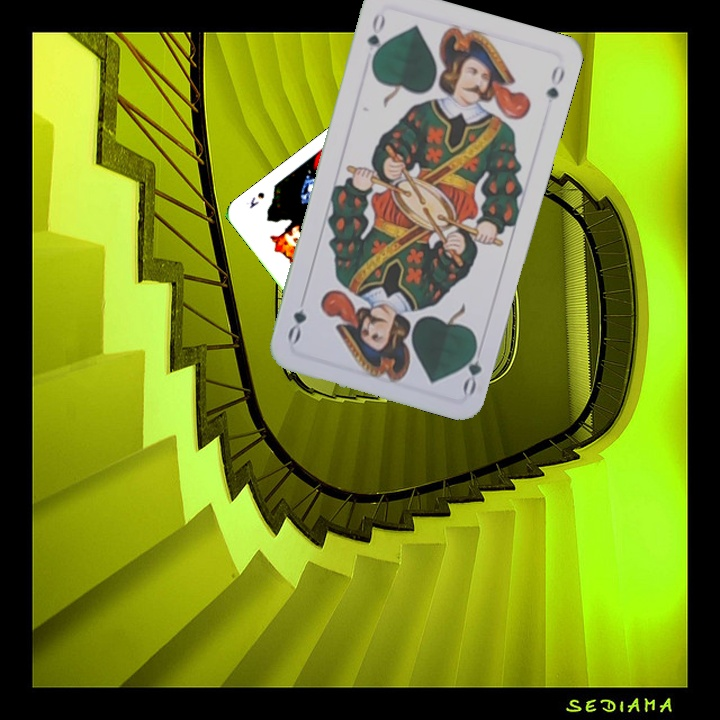GO: (458, 337, 486, 397), (363, 9, 388, 67)
